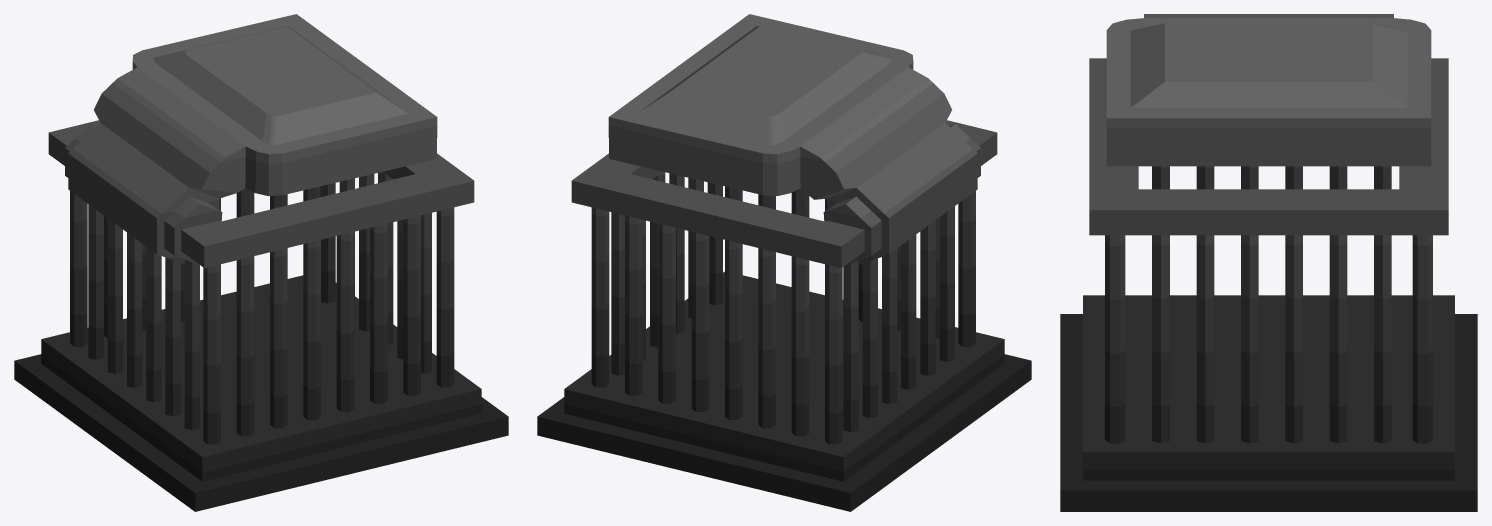
File: cage.fbx
3 views of the same model, side by side, from view 1: azimuth 30°, elevation 25°; view 2: azimuth 150°, elevation 25°; view 3: azimuth 270°, elevation 25° (orthographic). The views are drawn at different scales.
Visible parts, largest first — view 1: Cage, Door; view 2: Cage, Door; view 3: Cage, Door.
Part boxes in pixels (x1,y1,x2,y2): Cage: [14, 120, 508, 511]; Door: [65, 14, 437, 263]; Cage: [537, 120, 1031, 511]; Door: [608, 14, 980, 264]; Cage: [1060, 58, 1477, 511]; Door: [1106, 14, 1431, 166].
Bounding box in the file's own units: 407 × 412 × 407.
